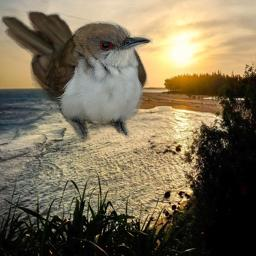Cuckoo: (1, 10, 153, 145)
